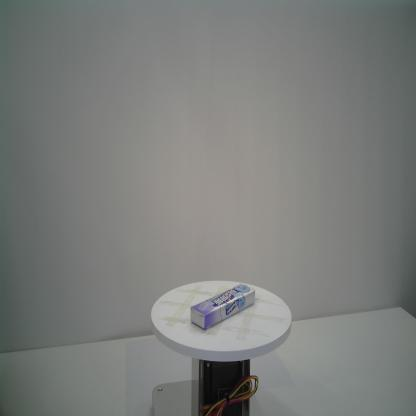Candy: (191, 284, 255, 330)
